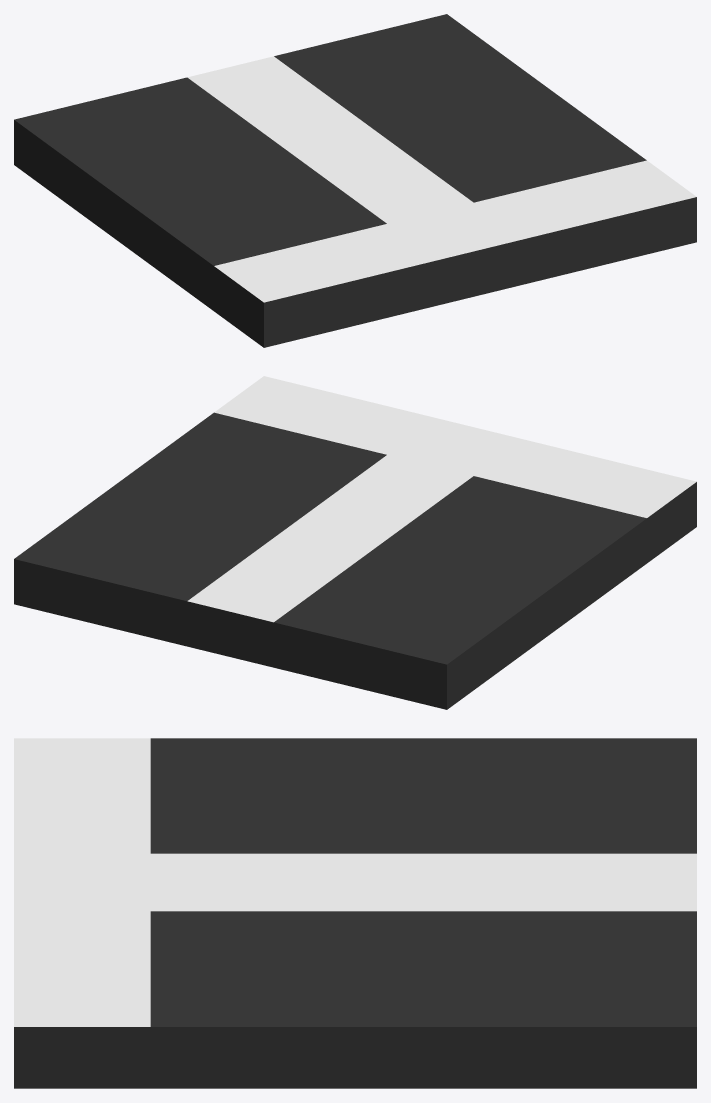
The model's file is Mod_TileRoad_08.fbx.
The picture shows the model from 3 angles, top to bottom: view 1: azimuth 30°, elevation 25°; view 2: azimuth 150°, elevation 25°; view 3: azimuth 270°, elevation 25°; orthographic projection. The views are drawn at different scales.
Visible parts, largest first — view 1: Mod_TileRoad_08; view 2: Mod_TileRoad_08; view 3: Mod_TileRoad_08.
Part boxes in pixels (x1,y1,x2,y2): Mod_TileRoad_08: (14,14,696,347); Mod_TileRoad_08: (14,376,696,709); Mod_TileRoad_08: (14,738,696,1088).
Bounding box in the file's own units: 100 × 10 × 100.
